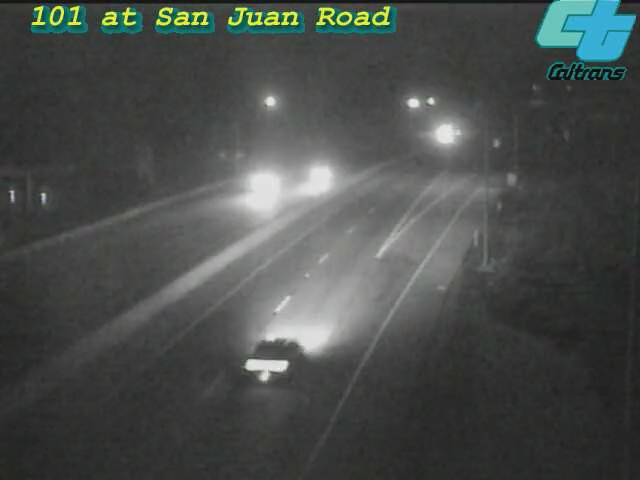vehicle: (217, 304, 327, 414), (220, 149, 300, 229), (278, 137, 358, 217), (421, 109, 471, 159)
